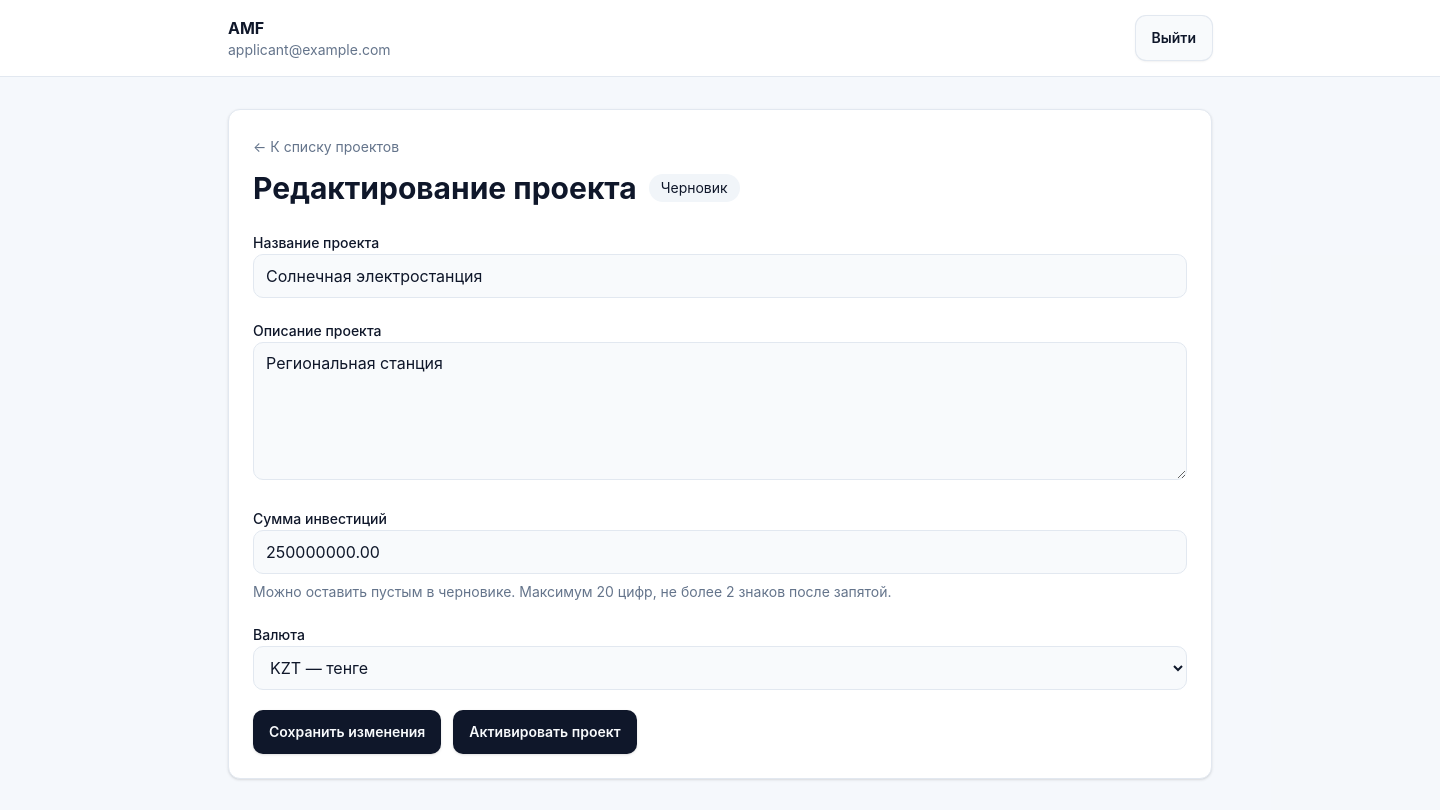
project editor › activates a complete saved draft
Step 1. Click the button "Активировать проект" → (545, 732), box [453,710,637,754]
(page scrolled)
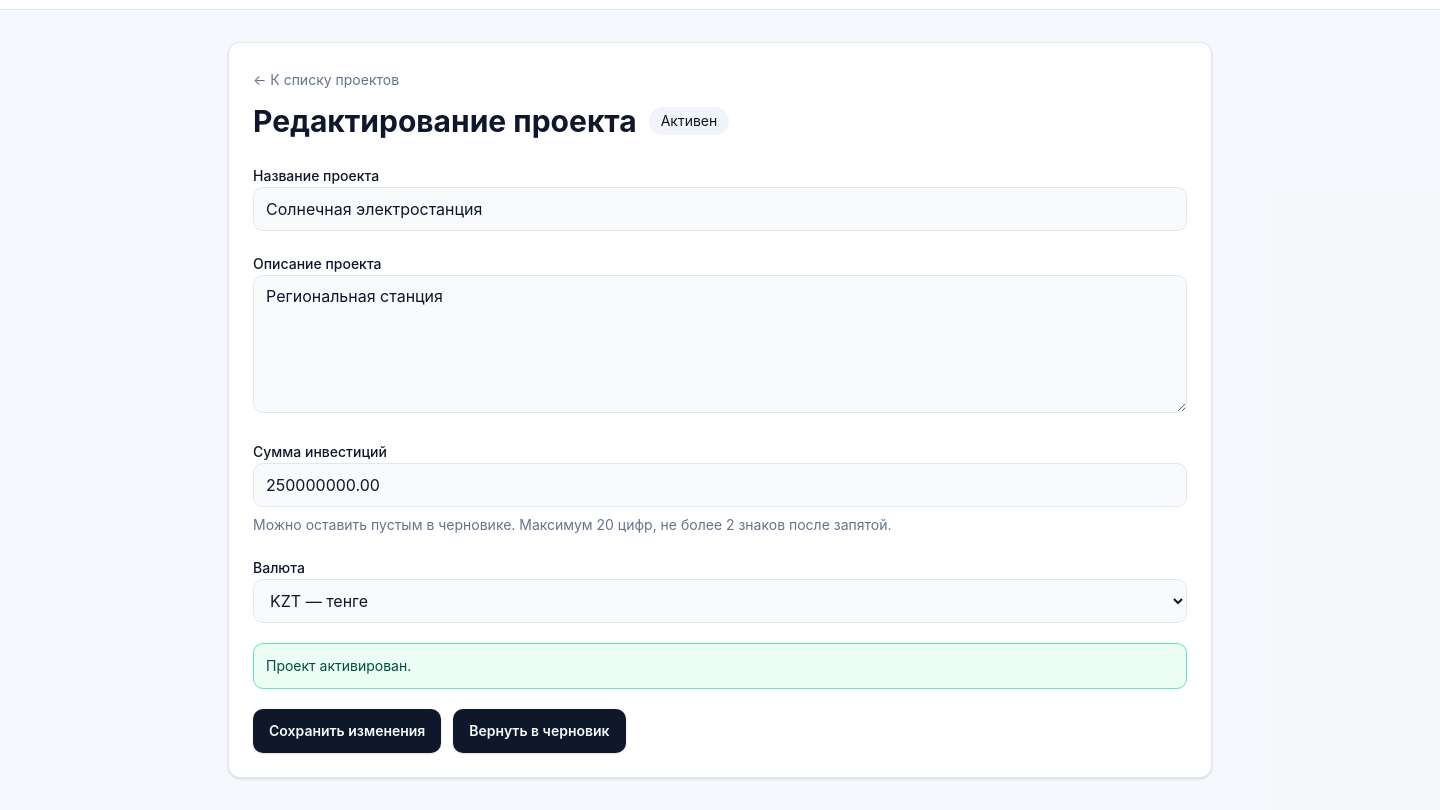
Expected: the button "Вернуть в черновик" is enabled, [453,709,626,753]
Result: the text "Активен" is shown at [649,107,729,135]
